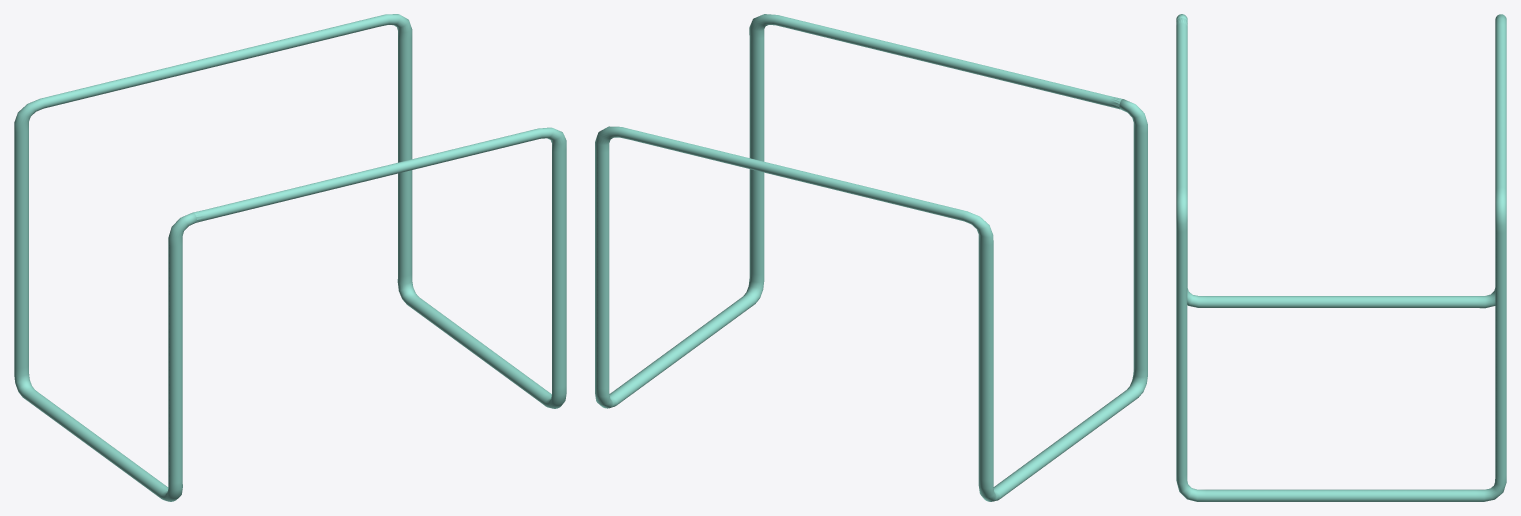
Rendered from cradle.obj.
3 renders of one model, left to right at view 1: azimuth 30°, elevation 25°; view 2: azimuth 150°, elevation 25°; view 3: azimuth 270°, elevation 25°, orthographic. The views are drawn at different scales.
Visible parts, largest first — view 1: Cylinder010; view 2: Cylinder010; view 3: Cylinder010.
Boxes of the visible parts, x1,y1,x2,y2 form: Cylinder010: (14, 14, 566, 501); Cylinder010: (595, 14, 1147, 501); Cylinder010: (1176, 14, 1506, 501).
Bounding box in the file's own units: 31.26 × 21.77 × 21.79.
